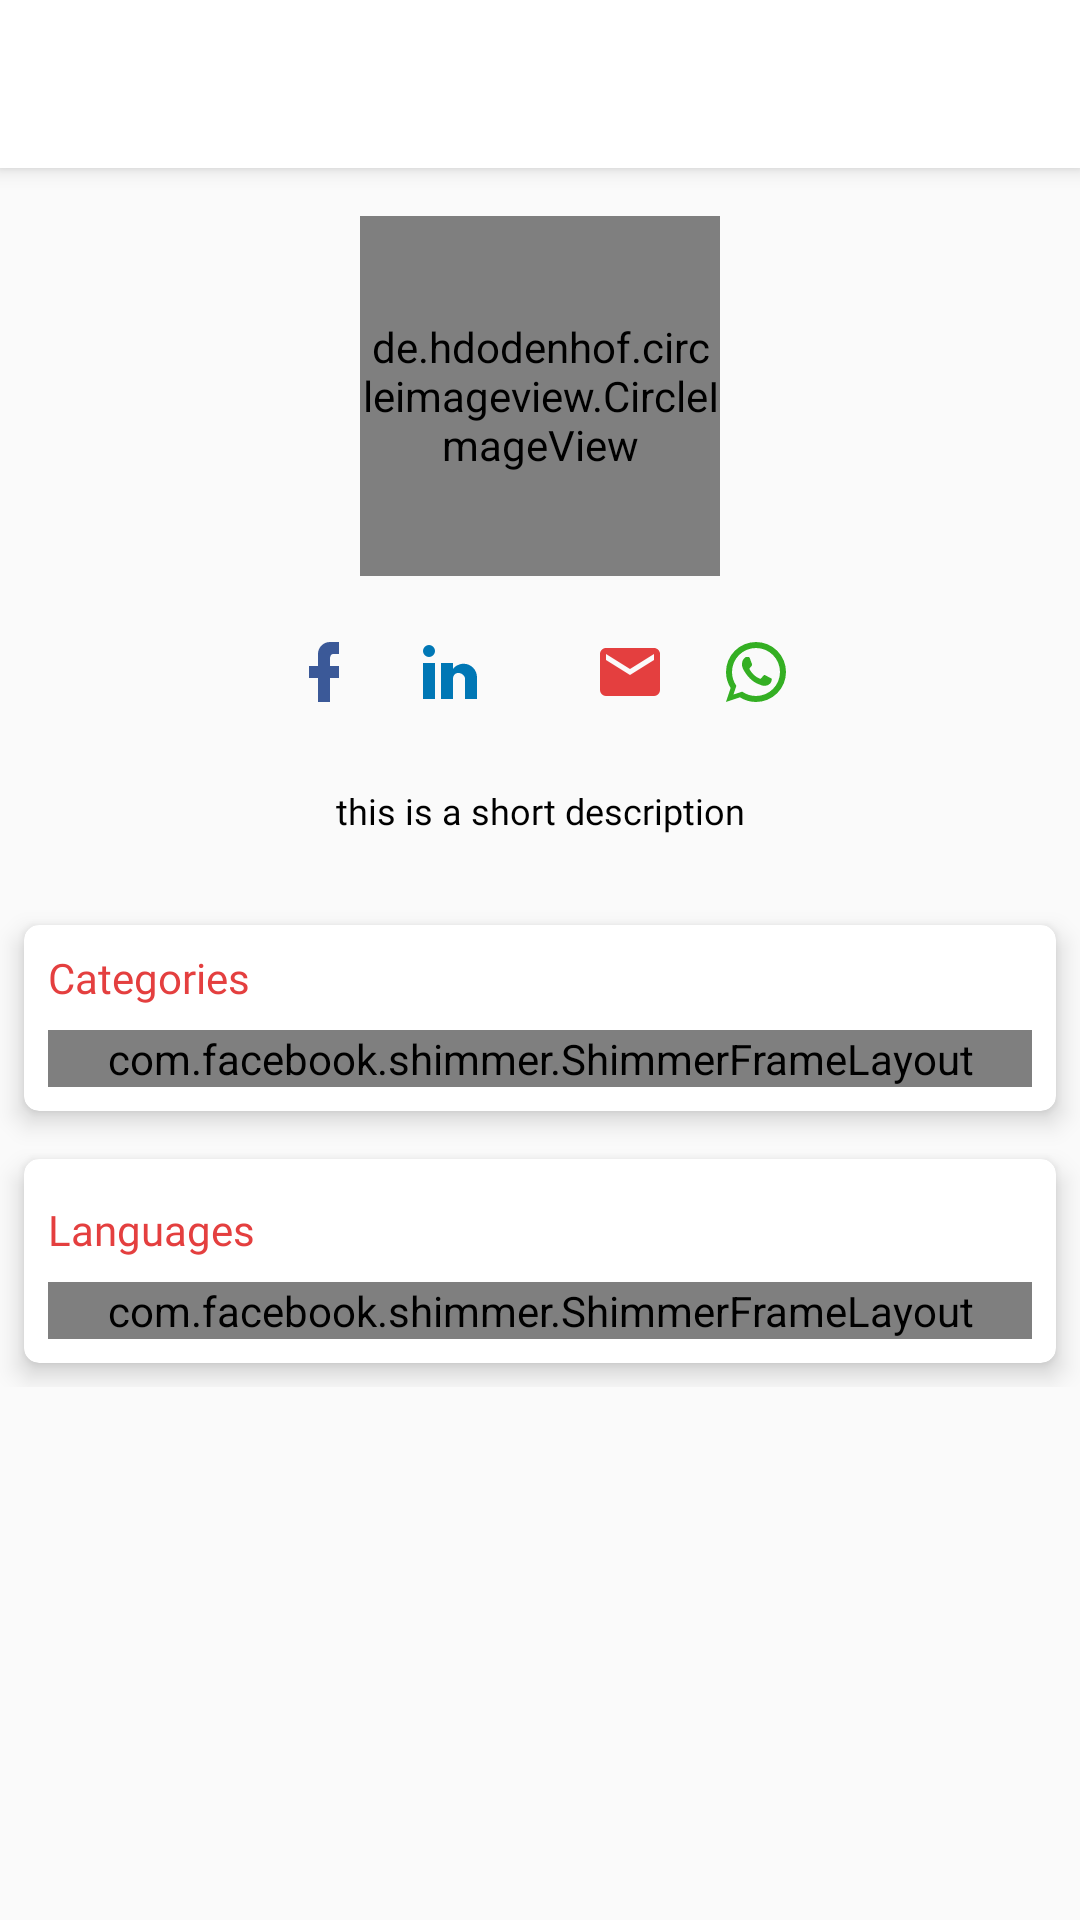

Icon bounding boxes for this 1080px×1920px phone screenshot, format (x1, y1, x2, y2):
email: (600, 648, 660, 696)
